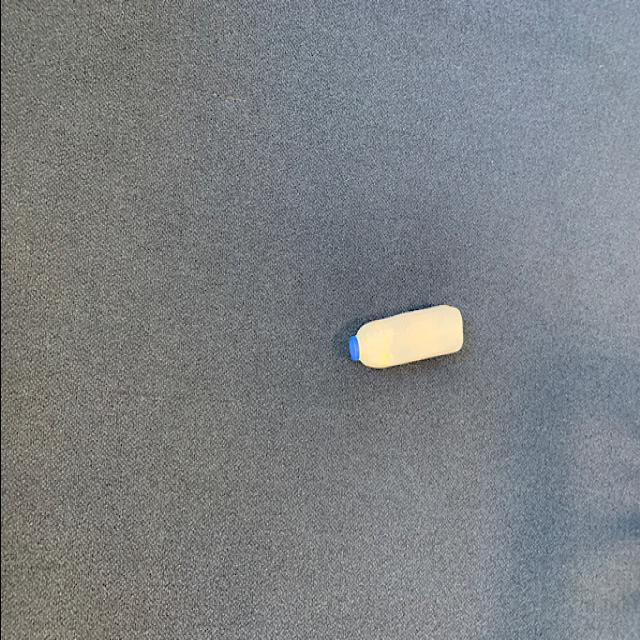HDPEM: (347, 298, 463, 377)
